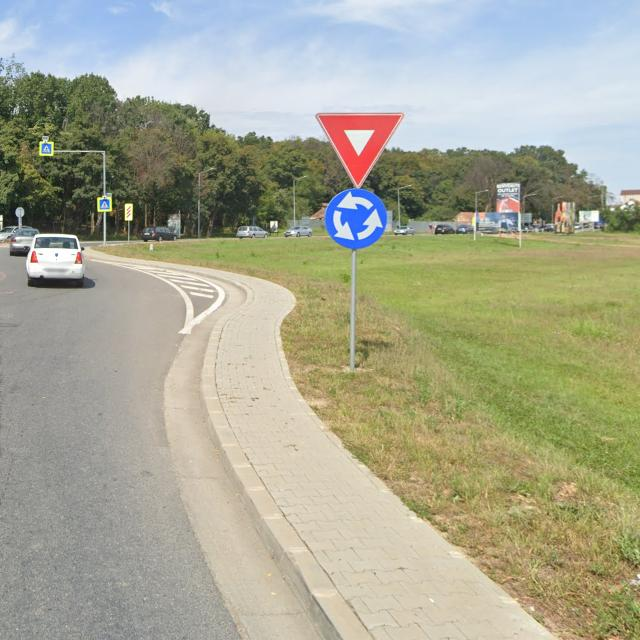info_crosswalk: (98, 197, 112, 211), (40, 142, 53, 156)
mand_roundabout: (323, 188, 389, 250)
prio_give_way: (316, 110, 404, 188)
